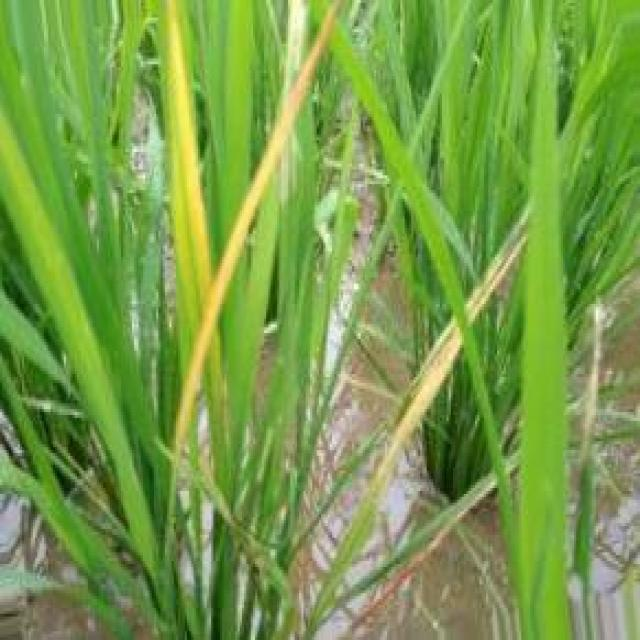Rice Tungro: (175, 0, 337, 454), (160, 0, 213, 368), (366, 319, 461, 496), (465, 213, 526, 323)
